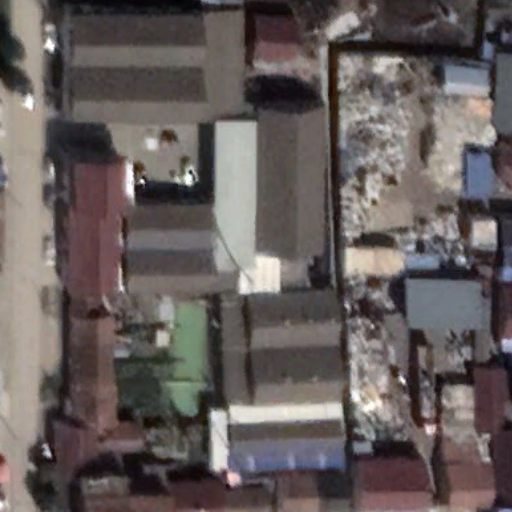msw: (338, 51, 407, 242), (346, 273, 411, 443)
